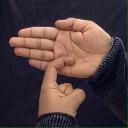hand: (8, 17, 112, 78), (37, 61, 86, 118)
